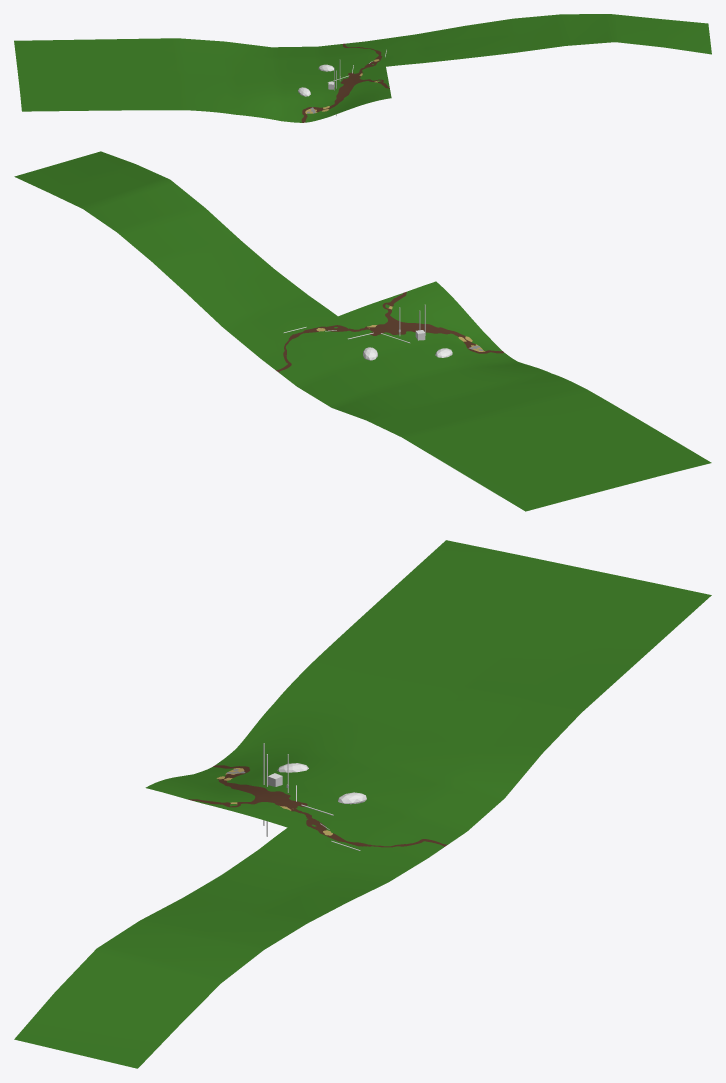
File: Weird settlement.fbx
3 renders of one model, top to bottom at view 1: azimuth 30°, elevation 25°; view 2: azimuth 150°, elevation 25°; view 3: azimuth 270°, elevation 25°, orthographic. The views are drawn at different scales.
Parts seen in each view (by area): view 1: base; view 2: base; view 3: base.
Boxes of the visible parts, left/top/right/bottom form: base: left=14, top=14, right=711, bottom=122; base: left=14, top=151, right=711, bottom=511; base: left=14, top=540, right=711, bottom=1068.
Bounding box in the file's own units: 6274 × 514 × 3462.
